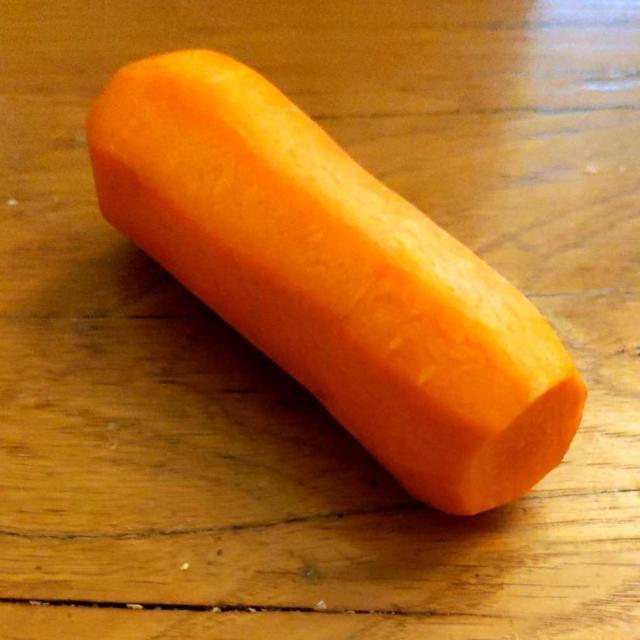Carrot: (72, 39, 598, 530)
